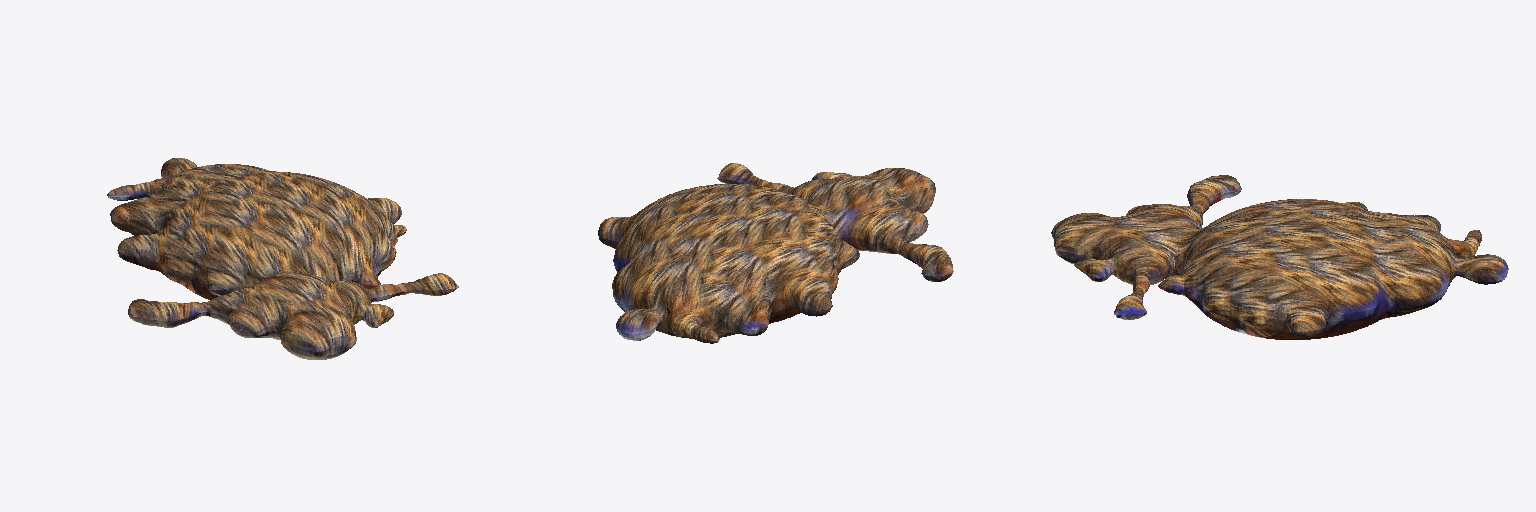
The picture shows the model from 3 angles: view 1: azimuth 30°, elevation 25°; view 2: azimuth 150°, elevation 25°; view 3: azimuth 270°, elevation 25°; orthographic projection.
Visible parts, largest first — view 1: Object.1; view 2: Object.1; view 3: Object.1.
Part boxes in pixels (x1,y1,x2,y2): Object.1: (107,158,458,359); Object.1: (598,163,953,343); Object.1: (1051,175,1508,339).
Bounding box in the file's own units: 0.29 × 0.0851 × 0.3682.
Materials: 1 (1 with a texture image).